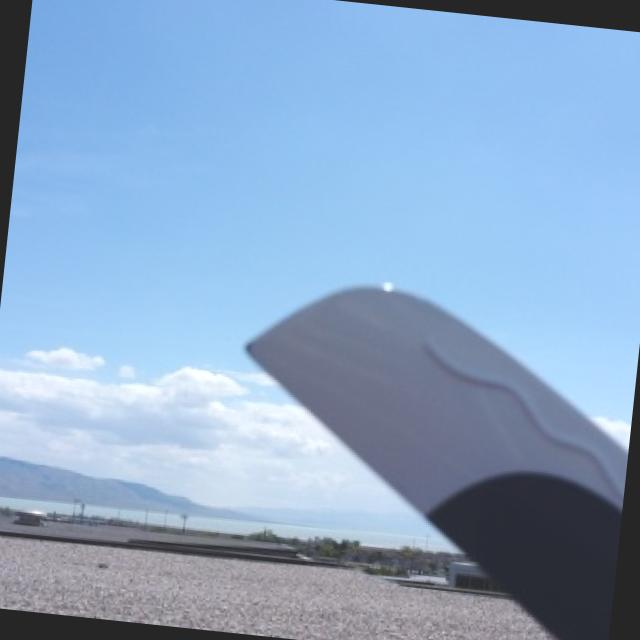healthy: (249, 285, 624, 640)
